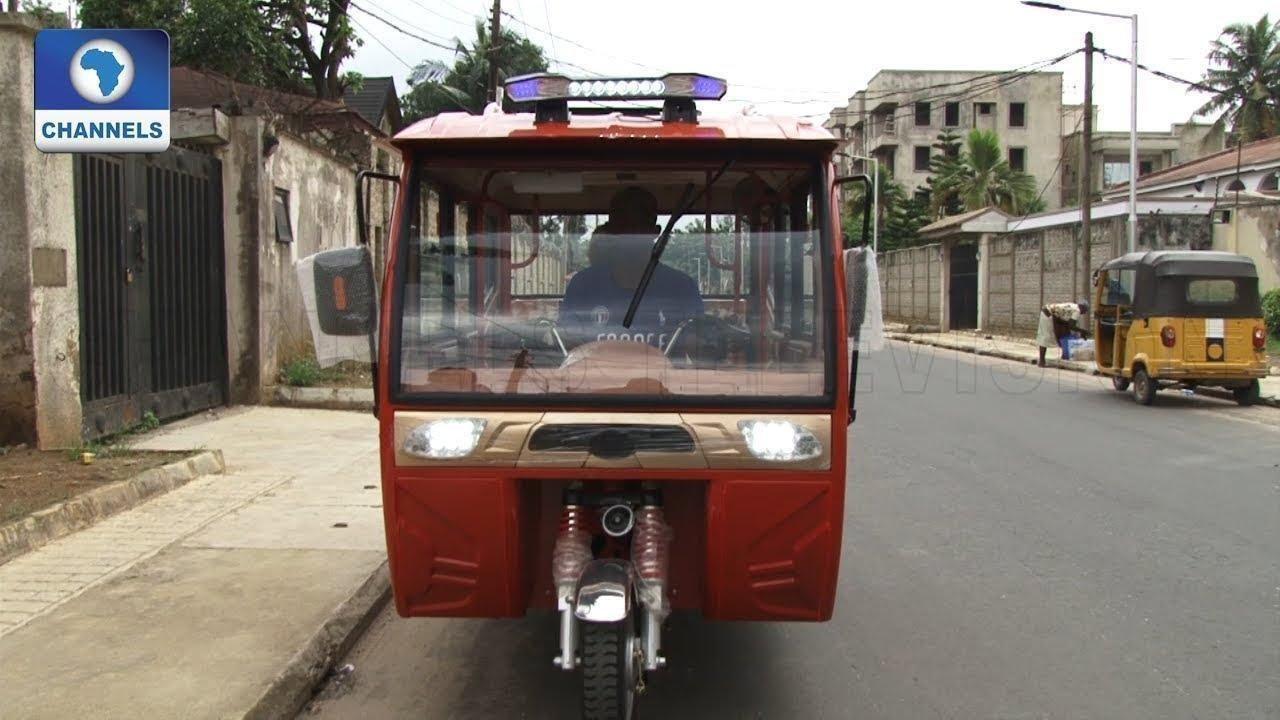keke: (1092, 246, 1270, 411)
